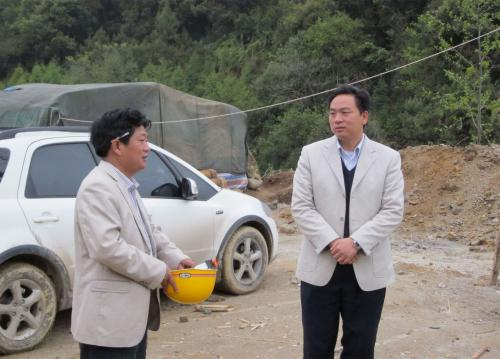hard-hat: (162, 266, 218, 304)
person: (70, 106, 198, 359), (290, 84, 404, 358)
